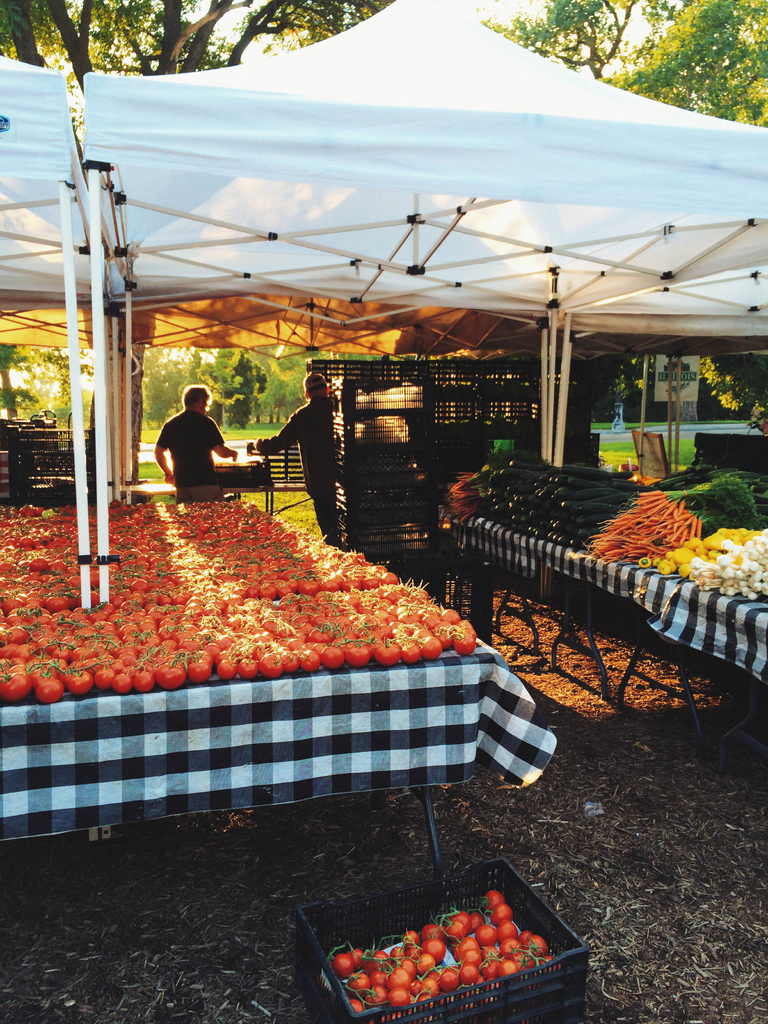Tomato: (0, 499, 478, 698), (336, 890, 558, 1022), (475, 924, 496, 944)
